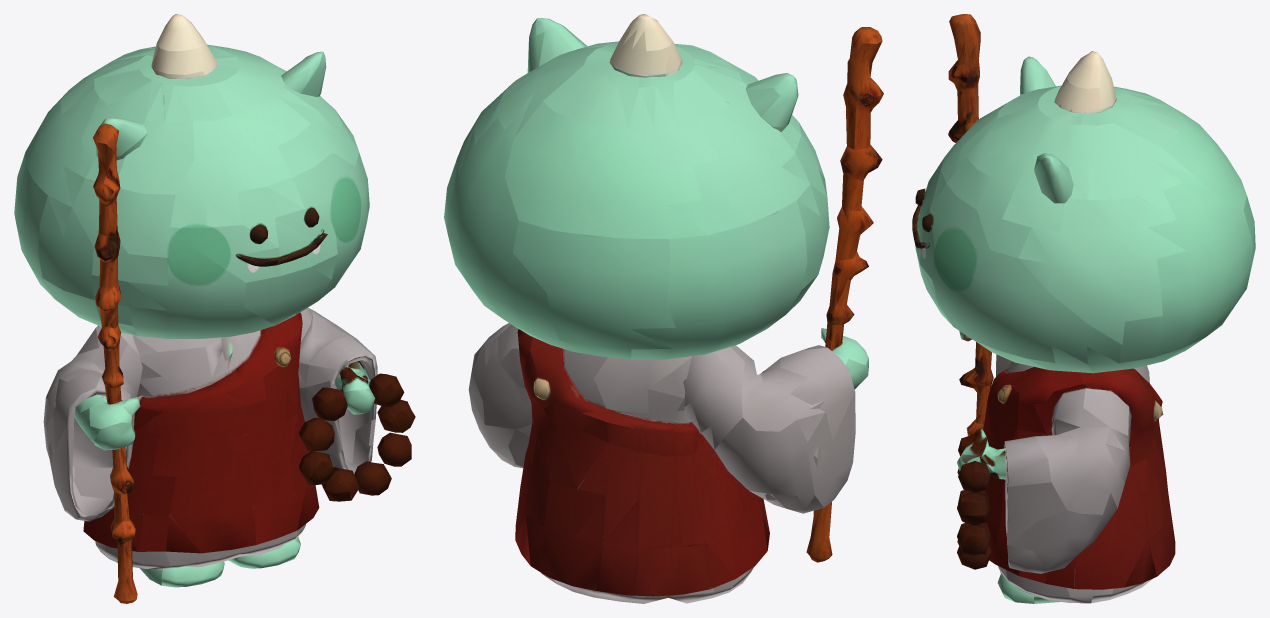
File: kkebi-monk-lowpoly4x.glb
The picture shows the model from 3 angles, left to right: view 1: azimuth 30°, elevation 25°; view 2: azimuth 150°, elevation 25°; view 3: azimuth 270°, elevation 25°; orthographic projection. The views are drawn at different scales.
Parts seen in each view (by area): view 1: mesh_node; view 2: mesh_node; view 3: mesh_node.
Boxes of the visible parts, x1,y1,x2,y2 form: mesh_node: (14,14,415,603); mesh_node: (444,14,883,603); mesh_node: (912,14,1255,603).
Bounding box in the file's own units: 2.6 × 4.01 × 2.44.
Materials: 1 (1 with a texture image).
